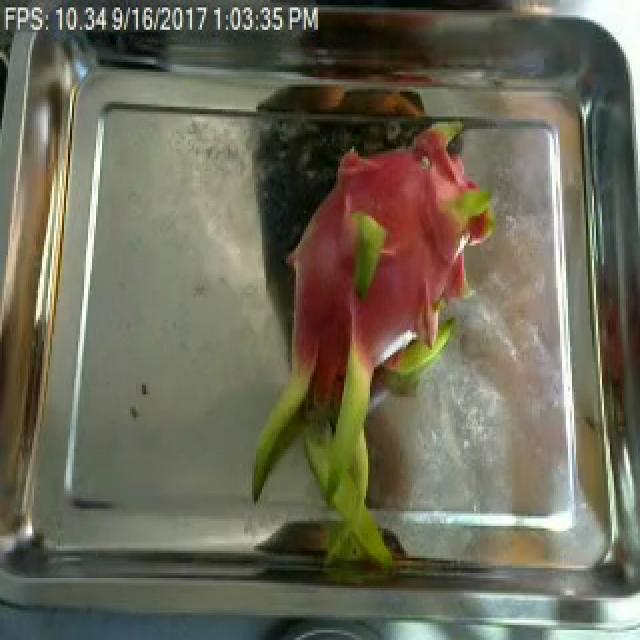fruit: (238, 134, 486, 566)
